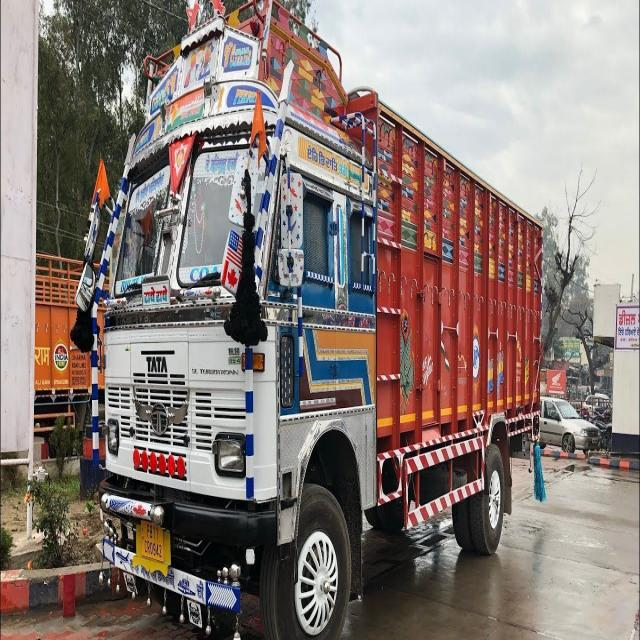Truck: (105, 16, 541, 634)
